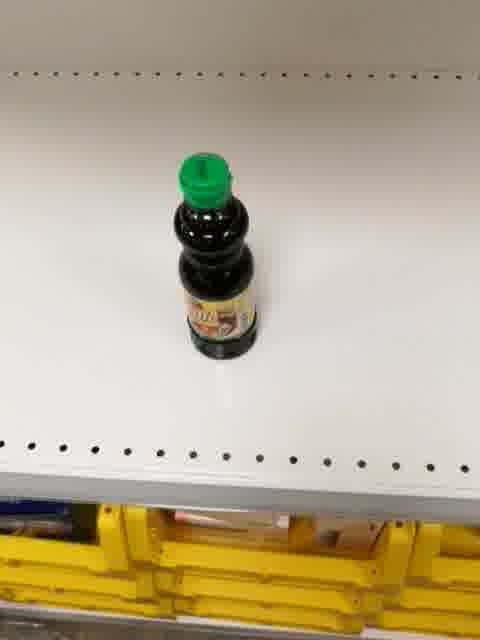cookingoil: (169, 150, 259, 363)
